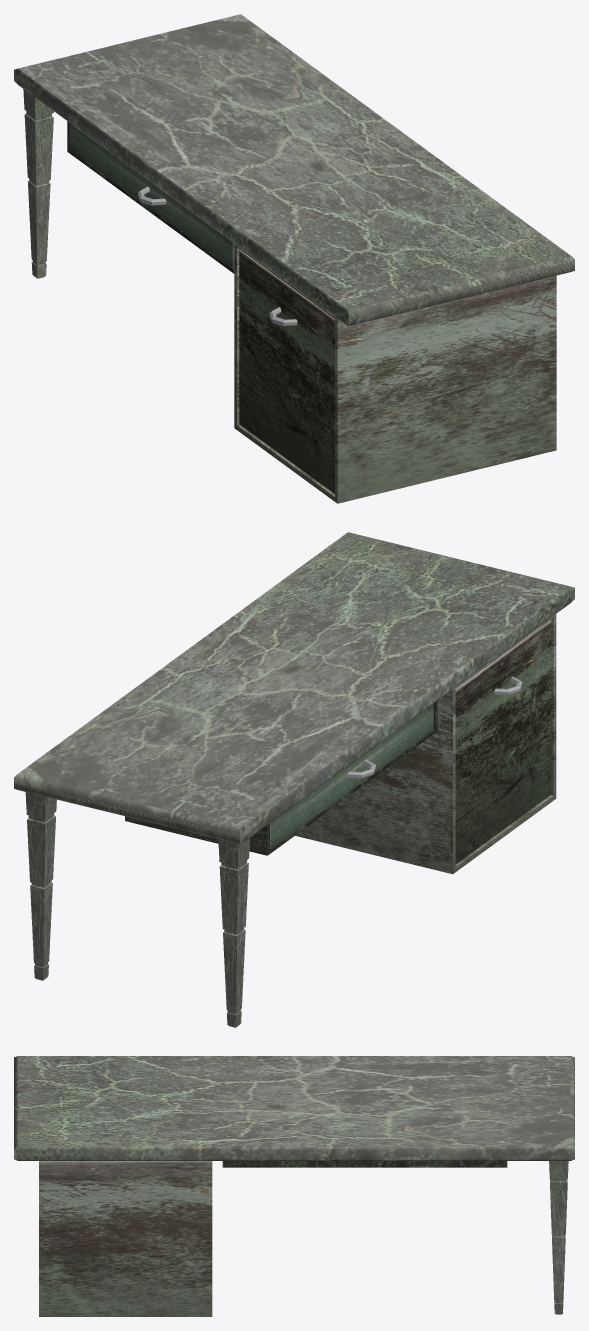
The model's file is Desk.fbx.
The picture shows the model from 3 angles, top to bottom: view 1: azimuth 30°, elevation 25°; view 2: azimuth 150°, elevation 25°; view 3: azimuth 270°, elevation 25°; orthographic projection. The views are drawn at different scales.
Visible parts, largest first — view 1: polySurface41; view 2: polySurface41; view 3: polySurface41.
Boxes of the visible parts, left/top/right/bottom form: polySurface41: left=14, top=14, right=574, bottom=503; polySurface41: left=14, top=532, right=574, bottom=1027; polySurface41: left=14, top=1056, right=574, bottom=1316.
Bounding box in the file's own units: 151 × 125 × 367.
